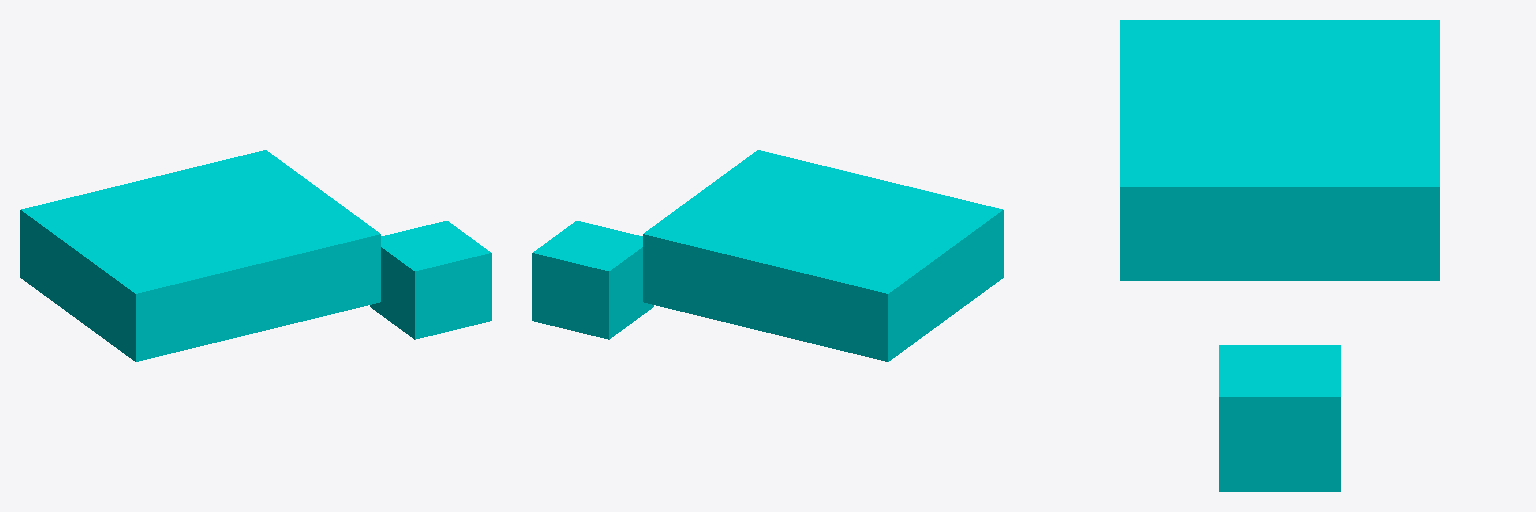
URDF robot description (pi_robot):
<robot name="pi_robot">
	<!-- * * * Link Definitions * * * -->

  	<link name="left_front_link">
		<visual>
		    <origin xyz="0.3 0 0" rpy="0 0 0"/>
			<geometry>
				<box size="0.1 0.1 0.085"/>
			</geometry>
			<material name="Red1">
	       		<color rgba="0 0.9 0.9 1.0"/>
	     	</material>
		</visual>	
	</link>

	<joint name="left_front_joint" type="revolute">
    	<parent link="base_link"/>
    	<child link="left_front_link"/>
    	<origin xyz="0 0 0" rpy="0 0 0"/>
    	<axis xyz="0 0 1"/>
    	<limit lower="-3.1416" upper="3.1416" effort="10" velocity="3"/>
  	</joint>
	
 	<link name="base_link">
		<visual>
		    <origin xyz="0 0 0.1" rpy="0 0 0"/>
			<geometry>
				<box size="0.32 0.26 0.085"/>
			</geometry>
			<material name="Cyan1">
	       		<color rgba="0 0.9 0.9 1.0"/>
	     	</material>
		</visual>	
	</link>
    
</robot>

--- Render facts (derived) ---
The picture shows the robot from 3 angles, left to right: view 1: azimuth 30°, elevation 25°; view 2: azimuth 150°, elevation 25°; view 3: azimuth 270°, elevation 25°; orthographic projection.
Robot: pi_robot — 2 links, 1 joints (1 revolute); root link base_link; default pose: all joints at 0.
Links seen in each view (by area): view 1: base_link, left_front_link; view 2: base_link, left_front_link; view 3: base_link, left_front_link.
Link boxes in pixels (x1,y1,x2,y2): base_link: [20, 150, 380, 361]; left_front_link: [370, 221, 491, 339]; base_link: [643, 150, 1003, 361]; left_front_link: [532, 221, 653, 339]; base_link: [1120, 20, 1439, 280]; left_front_link: [1219, 345, 1340, 491].
Size in the robot's own frame: 0.51 by 0.26 by 0.185 metres.
Geometry: primitives only (box / cylinder / sphere), no mesh files.